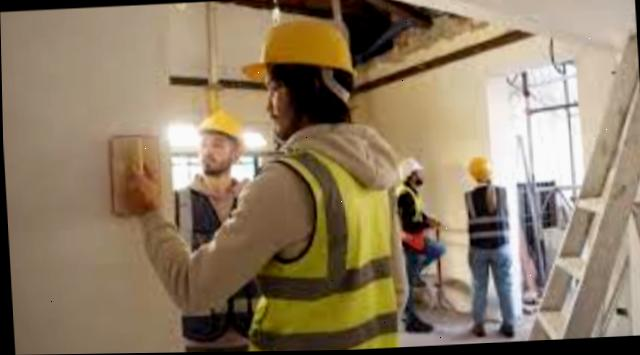helmet: (246, 7, 375, 89), (182, 103, 248, 147), (385, 154, 431, 187), (460, 152, 498, 184)
vest: (230, 124, 404, 352), (165, 178, 260, 345), (462, 181, 519, 254), (396, 183, 438, 247)
